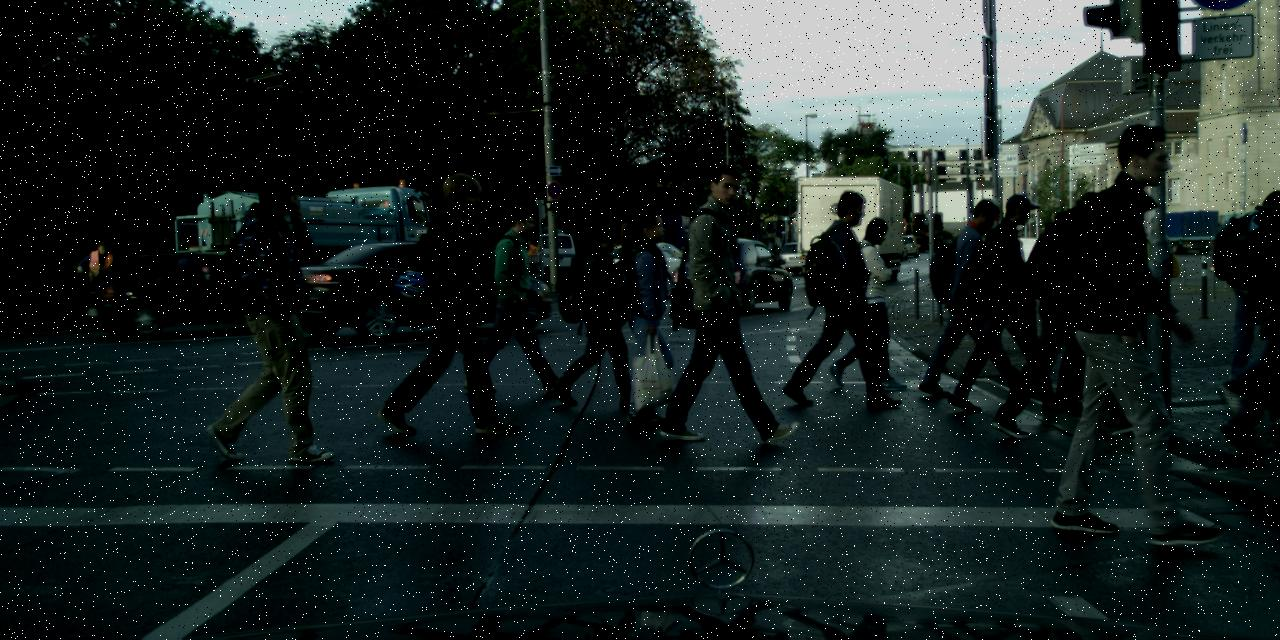ped: (1052, 123, 1220, 535), (211, 171, 327, 455), (671, 164, 782, 438), (400, 172, 506, 430), (1030, 190, 1128, 430), (968, 192, 1057, 410), (802, 190, 890, 406), (603, 210, 691, 426), (1051, 194, 1133, 396), (944, 199, 1024, 394), (480, 205, 558, 393), (561, 222, 635, 404), (833, 216, 903, 387), (1230, 188, 1278, 379), (87, 240, 116, 312), (523, 239, 539, 279)
